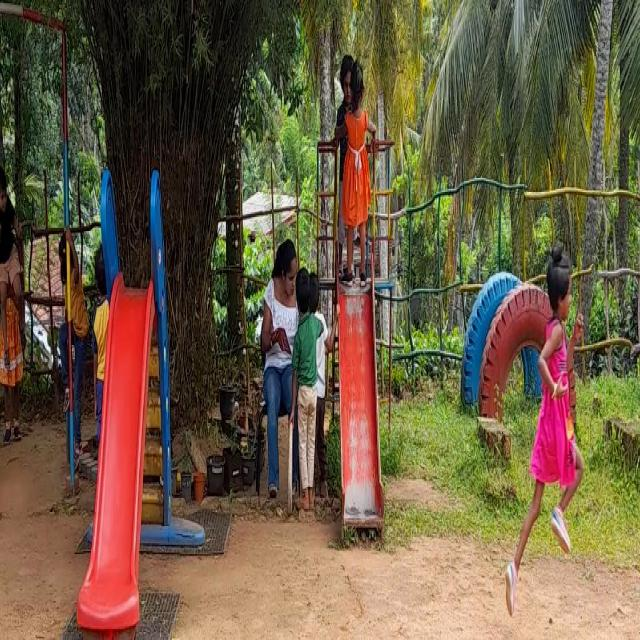child: (508, 238, 582, 613), (0, 129, 28, 351), (346, 47, 372, 275), (300, 253, 323, 509)
